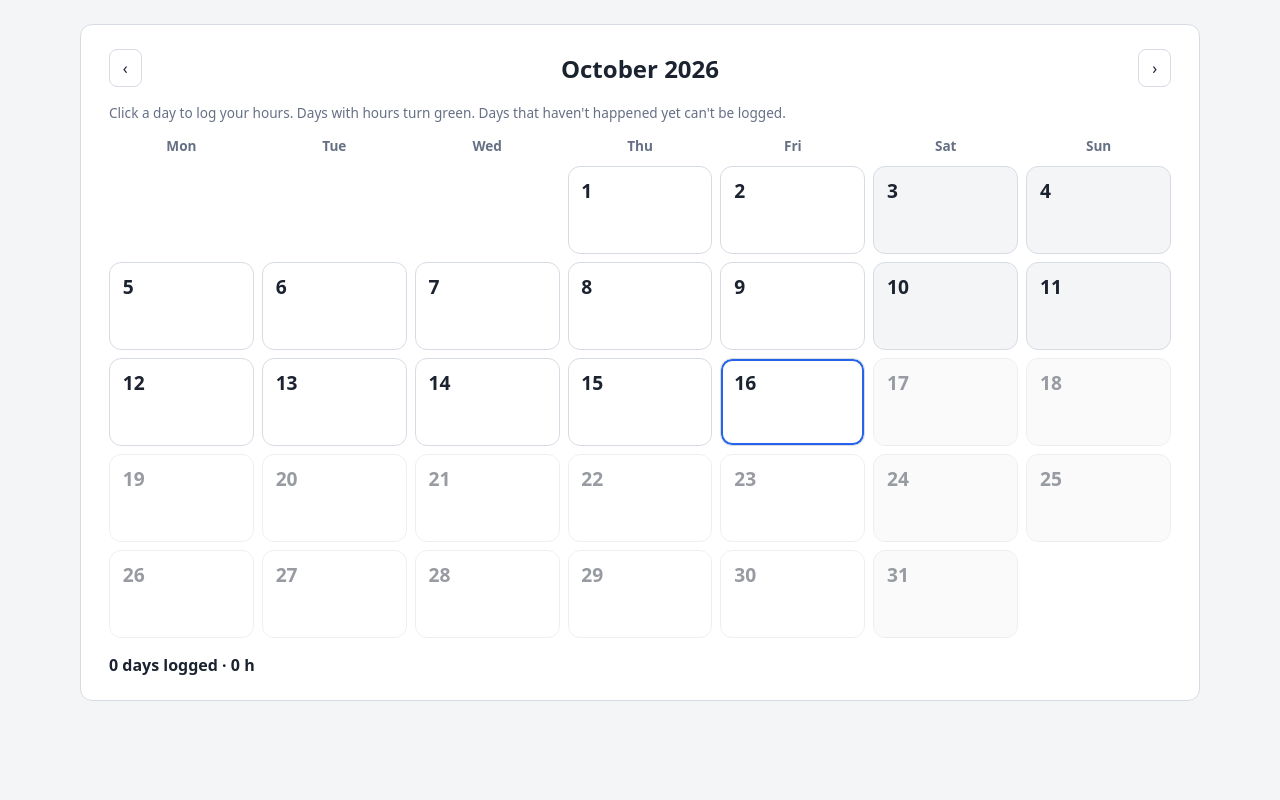
Scenario: logging hours › logs the chosen preset and turns the day green
This screenshot has width=1280, height=800.
Click the button named "Sat, Oct 10," at (946, 306), box top-left (873, 262), bottom-right (1018, 350)
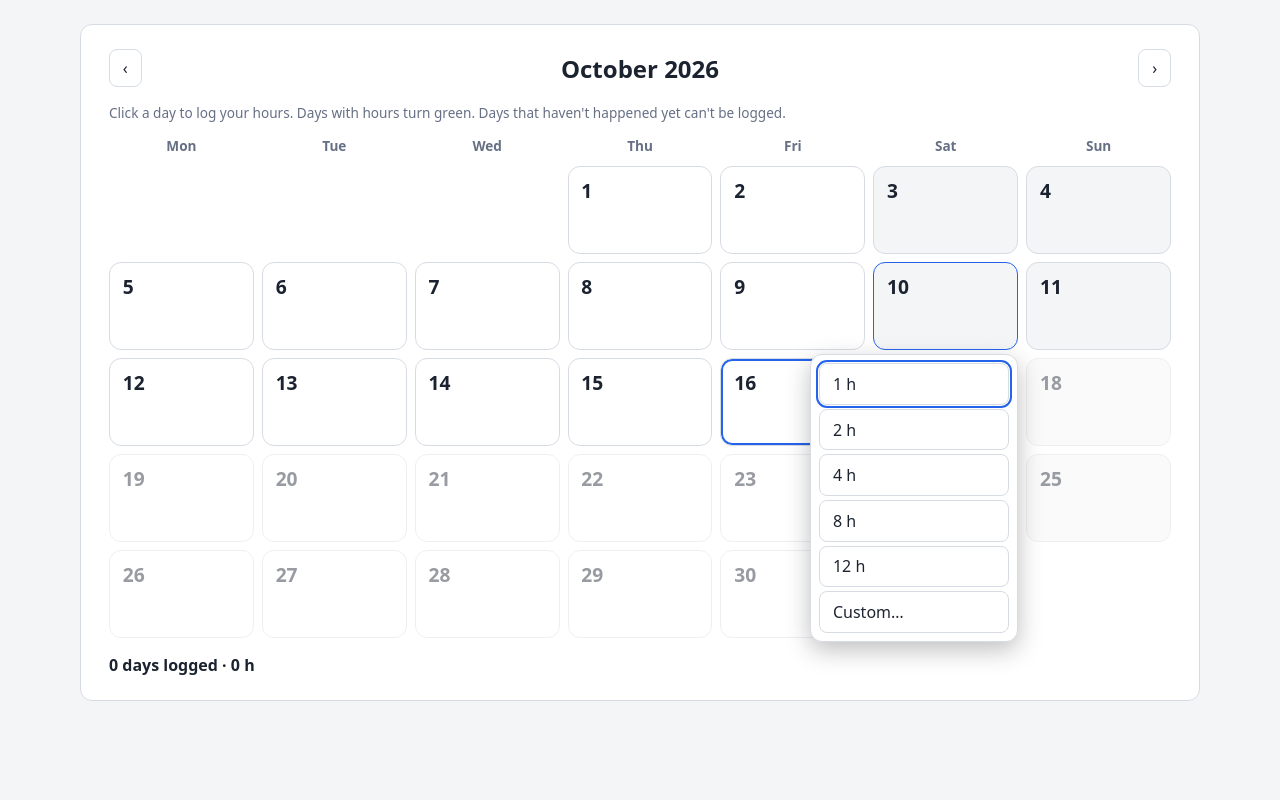
Click the button "8 h" at (914, 521), box top-left (819, 500), bottom-right (1009, 542)
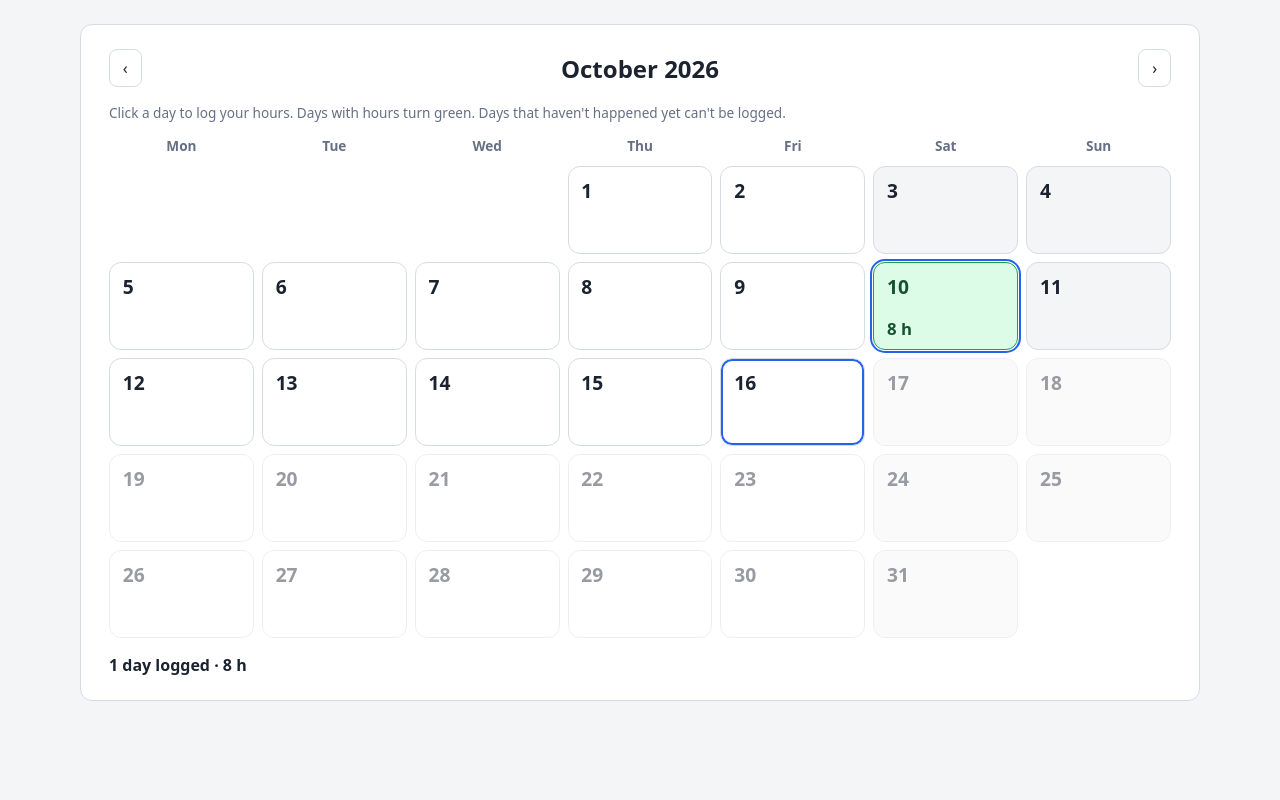
Expected: the button named "Sat, Oct 10, 8 h logged" shows "8 h", top-left (873, 262), bottom-right (1018, 350)
Expected: the text "1 day logged · 8 h" is shown, top-left (109, 654), bottom-right (247, 676)
